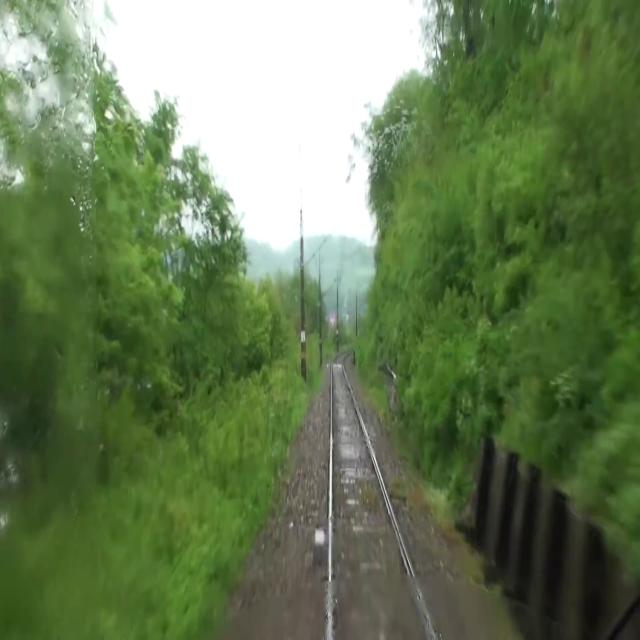rail-track: (332, 354, 427, 639)
